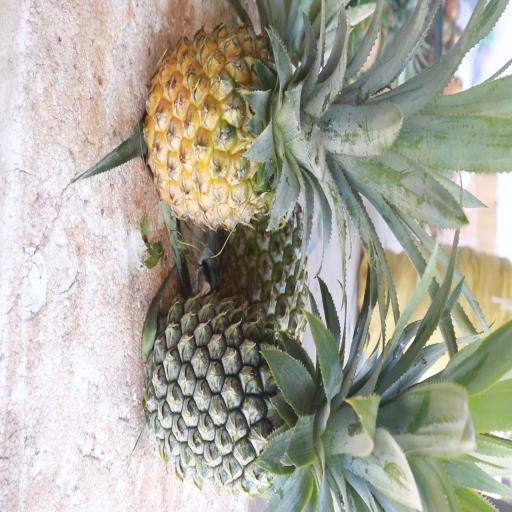Pineapple - v8 v1: (139, 14, 433, 240)
